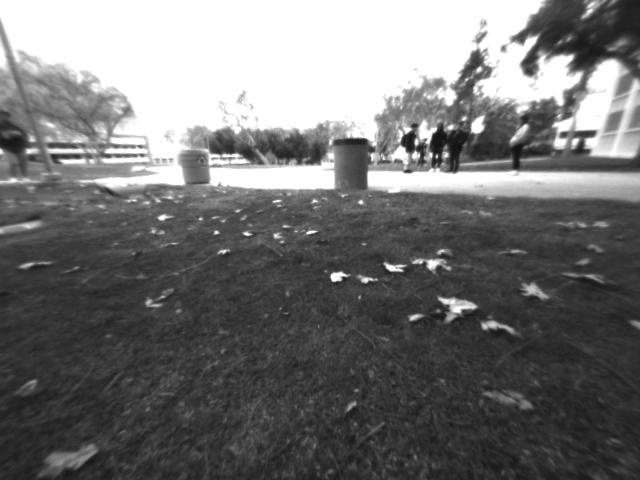trashcan: (331, 141, 371, 193), (177, 147, 217, 186)
